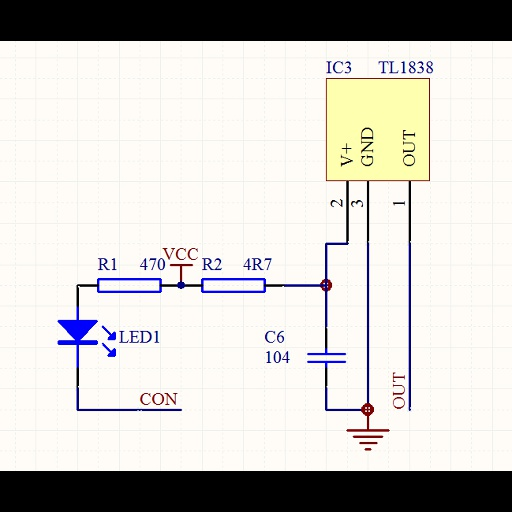capacitor: (303, 347, 351, 372)
firstled: (46, 313, 118, 360)
firstresistance: (198, 274, 269, 297), (91, 274, 166, 295)
gnd: (343, 424, 394, 452)
